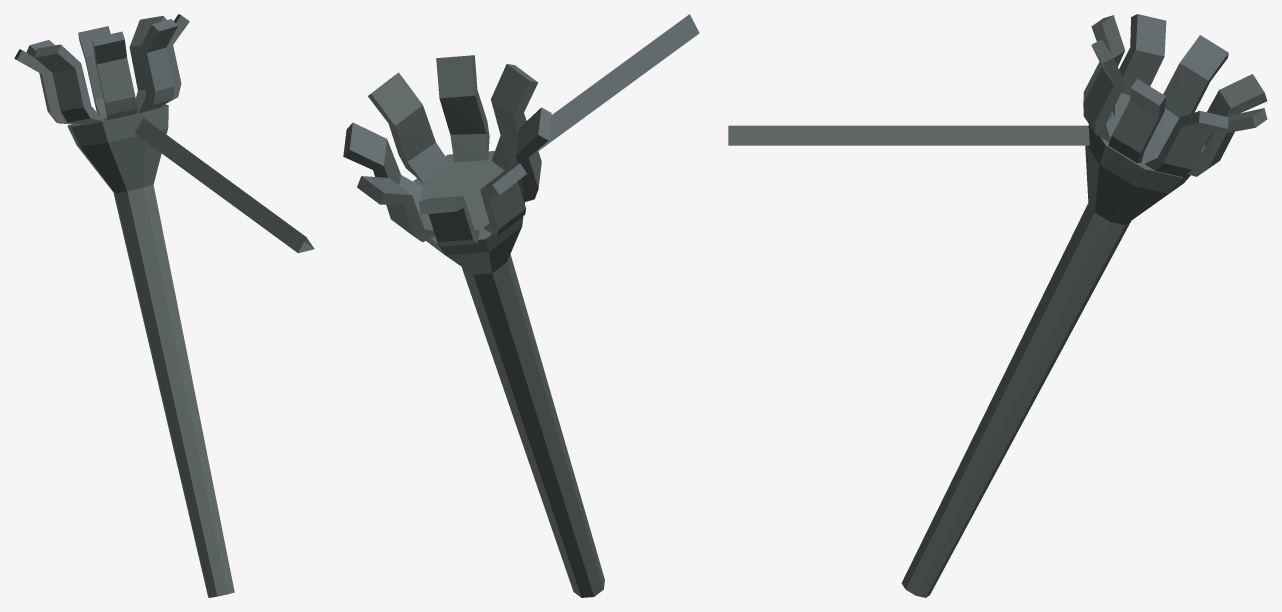
The model's file is ZLP_Build_D_46.FBX.
The picture shows the model from 3 angles, left to right: view 1: azimuth 30°, elevation 25°; view 2: azimuth 150°, elevation 25°; view 3: azimuth 270°, elevation 25°; orthographic projection. The views are drawn at different scales.
Visible parts, largest first — view 1: ZLP_Build_D_46; view 2: ZLP_Build_D_46; view 3: ZLP_Build_D_46.
Part boxes in pixels (left/top/right/bottom): ZLP_Build_D_46: left=14, top=14, right=314, bottom=597; ZLP_Build_D_46: left=343, top=14, right=699, bottom=597; ZLP_Build_D_46: left=728, top=14, right=1267, bottom=597.
Bounding box in the file's own units: 41.83 × 134 × 116.
